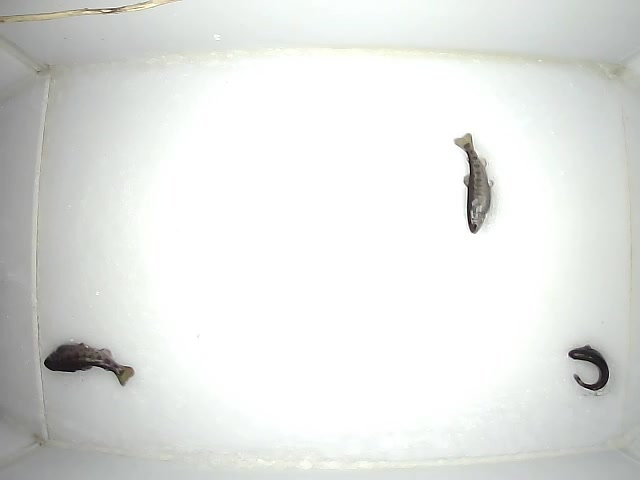fish: (451, 131, 495, 234), (42, 340, 136, 386), (566, 344, 610, 391)
